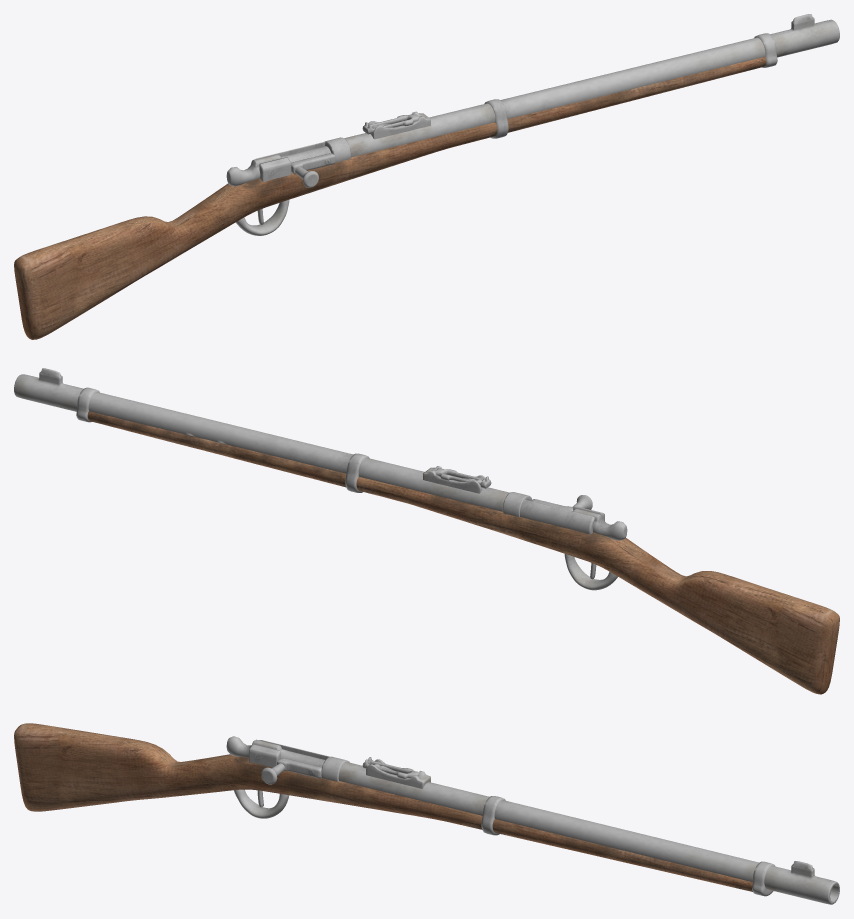
The model's file is Musket 01.fbx.
3 views of the same model, one above another, from view 1: azimuth 30°, elevation 25°; view 2: azimuth 150°, elevation 25°; view 3: azimuth 330°, elevation 25° (orthographic).
Visible parts, largest first — view 1: Chassepot_19; view 2: Chassepot_19; view 3: Chassepot_19.
Part boxes in pixels (x1,y1,x2,y2): Chassepot_19: (14, 14, 839, 339); Chassepot_19: (14, 368, 839, 694); Chassepot_19: (14, 723, 839, 904).
Size of the model in its own units: 9.78 by 1.55 by 0.6467.
2 materials, 2 textured.
